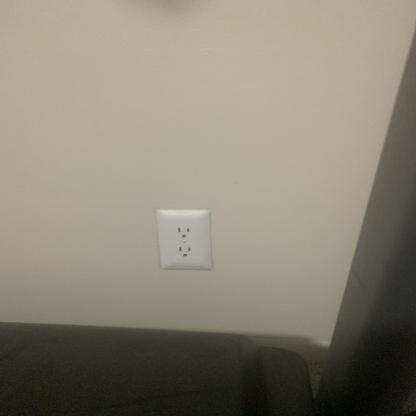OUTLET: (155, 209, 214, 271)
